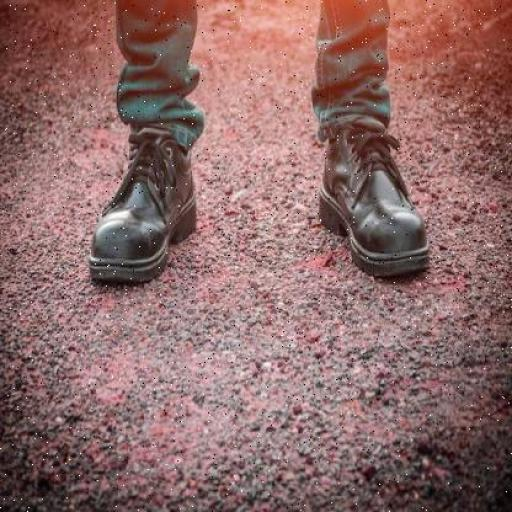safety_shoe: (319, 134, 428, 272), (92, 140, 196, 272)
